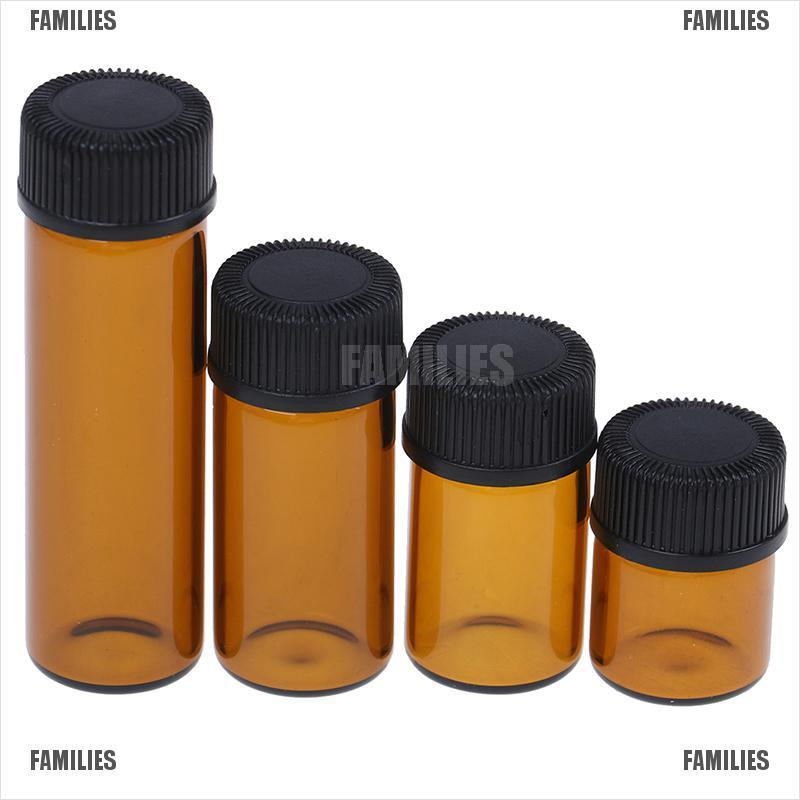glass_bottle: (8, 64, 215, 696), (209, 234, 399, 700), (403, 300, 587, 694), (590, 394, 788, 704)
